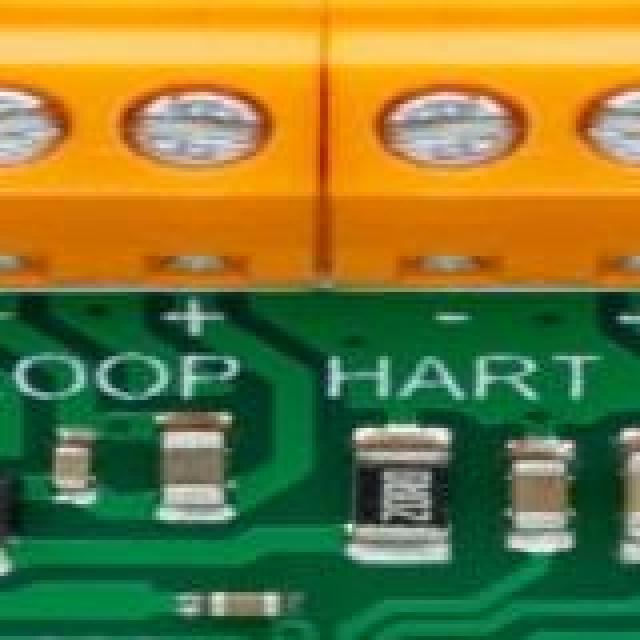capacitor: (140, 420, 242, 522), (512, 448, 572, 542), (192, 588, 294, 620), (56, 436, 98, 490), (632, 440, 640, 564)
connector: (0, 0, 320, 288), (328, 8, 640, 280)
resistor: (364, 448, 452, 540)
transistor: (0, 428, 8, 580)
